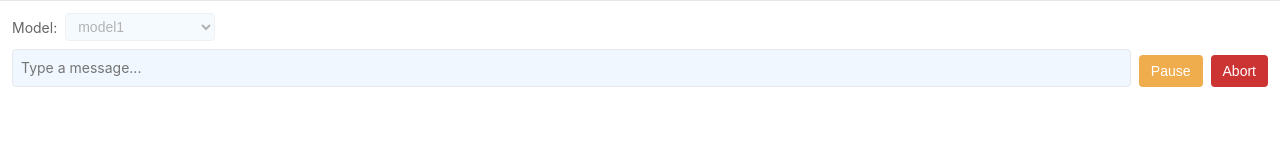
Test: MessageInput UI › disables abort button after click until daemon responds
Click the button "Abort": (1239, 71) [1210, 55, 1268, 87]
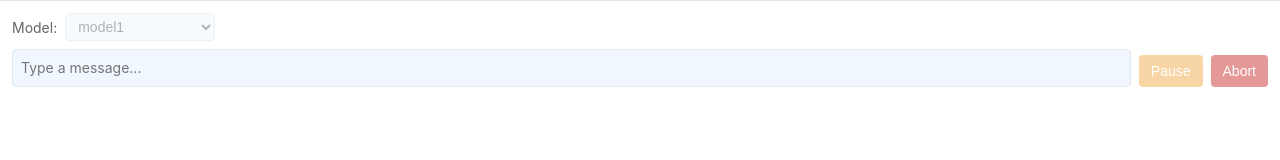
Check: the button "Abort" is disabled, box [1210, 55, 1268, 87]
